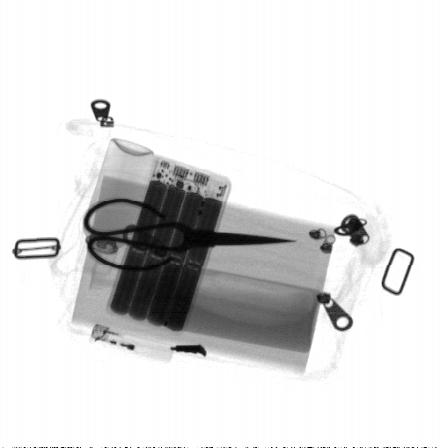Lighter: (88, 323, 181, 367)
Powerbank: (106, 152, 232, 333)
Scissors: (82, 196, 300, 271)
Sprayer: (77, 135, 159, 278)
